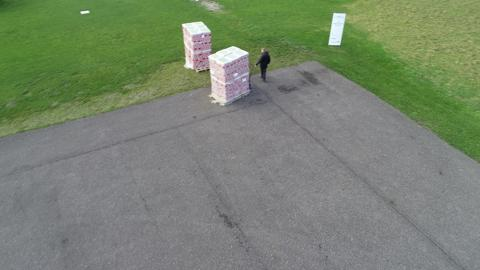RockwoolPallet: (182, 21, 214, 75)
